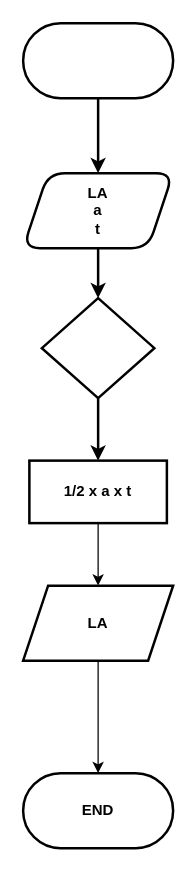
Some shapes in this 195 by 870 pixel diagram are drawn without their labels. The shapes that lost their labels are listed below. From the top down, each one's centre as x and y in pixels, then its label:
At pixel 97 60: "START".
At pixel 97 347: "La = 1/2 x a t".
